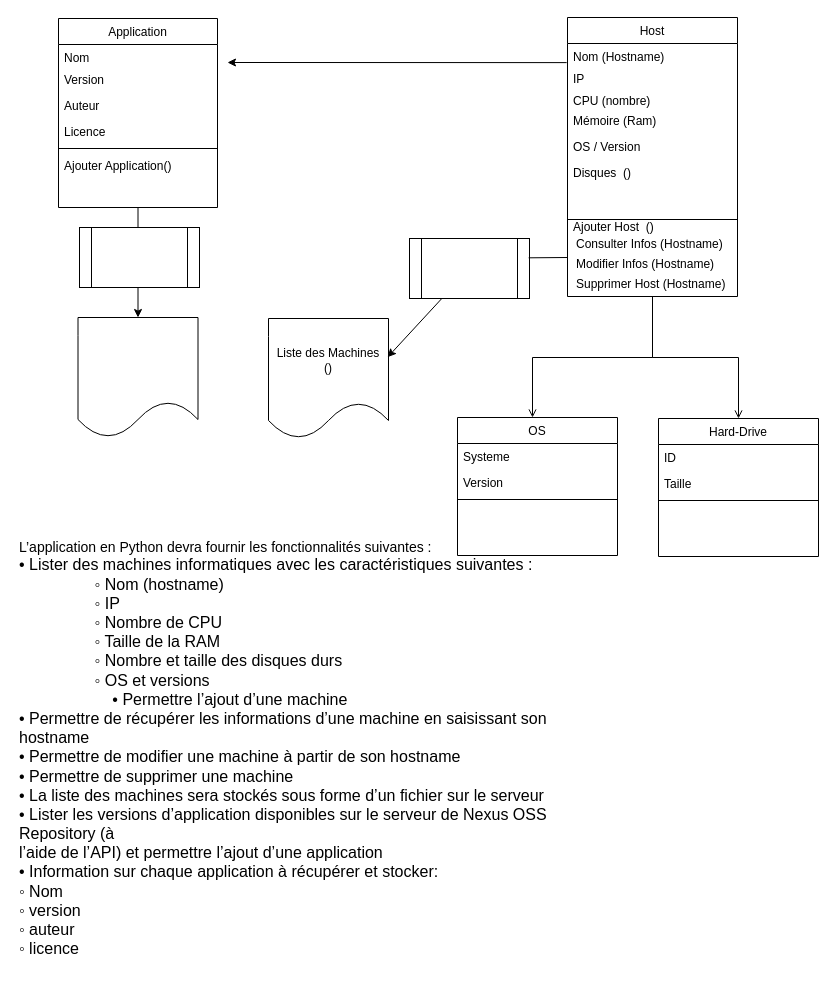
This 836x981 diagram has some shape labels left out. The shapes that lost their labels are listed below. From the top down, each one's centre as x and y in pixels, then its label:
At point (139, 257): "Process Liste des versions d'Applcations disponibles".
At point (469, 268): "Process Liste des Machines".
At point (137, 377): "Liste des Applications disponibles".
